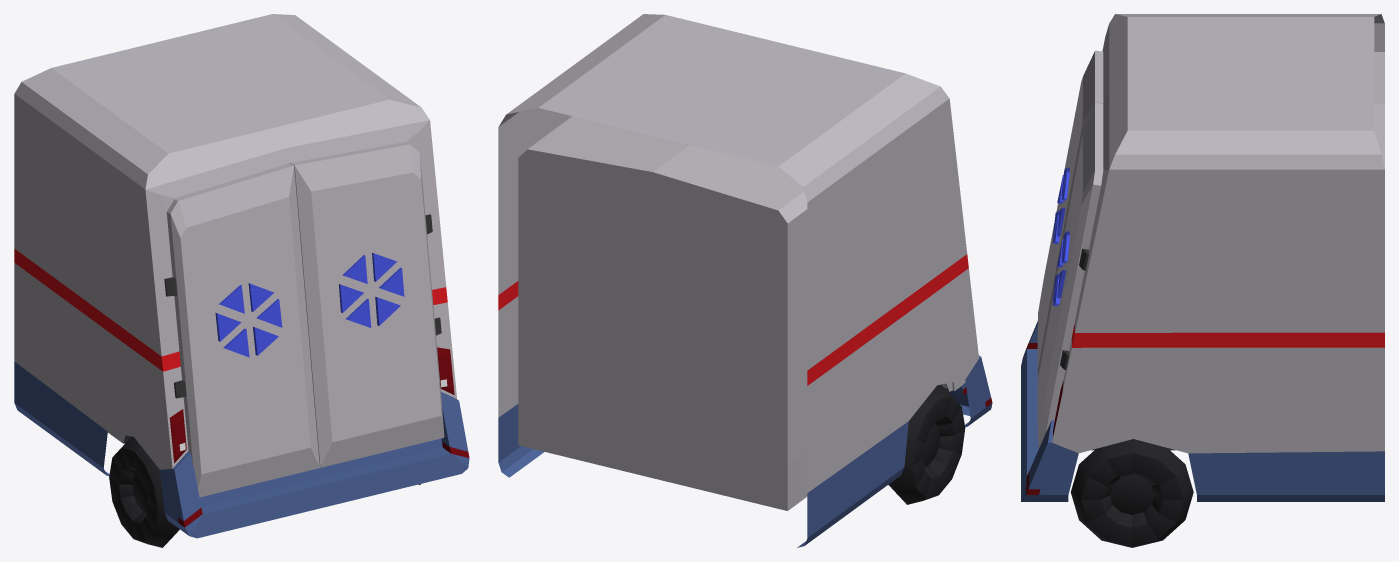
File: Ambulance_cages.fbx
The picture shows the model from 3 angles, left to right: view 1: azimuth 30°, elevation 25°; view 2: azimuth 150°, elevation 25°; view 3: azimuth 270°, elevation 25°; orthographic projection. The views are drawn at different scales.
Visible parts, largest first — view 1: Pallet, RightDoor, LeftDoor; view 2: Pallet; view 3: Pallet, LeftDoor, RightDoor.
Boxes of the visible parts, x1,y1,x2,y2 form: Pallet: (14, 14, 469, 547); RightDoor: (164, 163, 319, 497); LeftDoor: (289, 142, 444, 467); Pallet: (498, 14, 992, 547); Pallet: (1021, 14, 1384, 547); LeftDoor: (1037, 102, 1103, 447); RightDoor: (1037, 50, 1103, 376).
Bounding box in the file's own units: 201 × 260 × 210.
